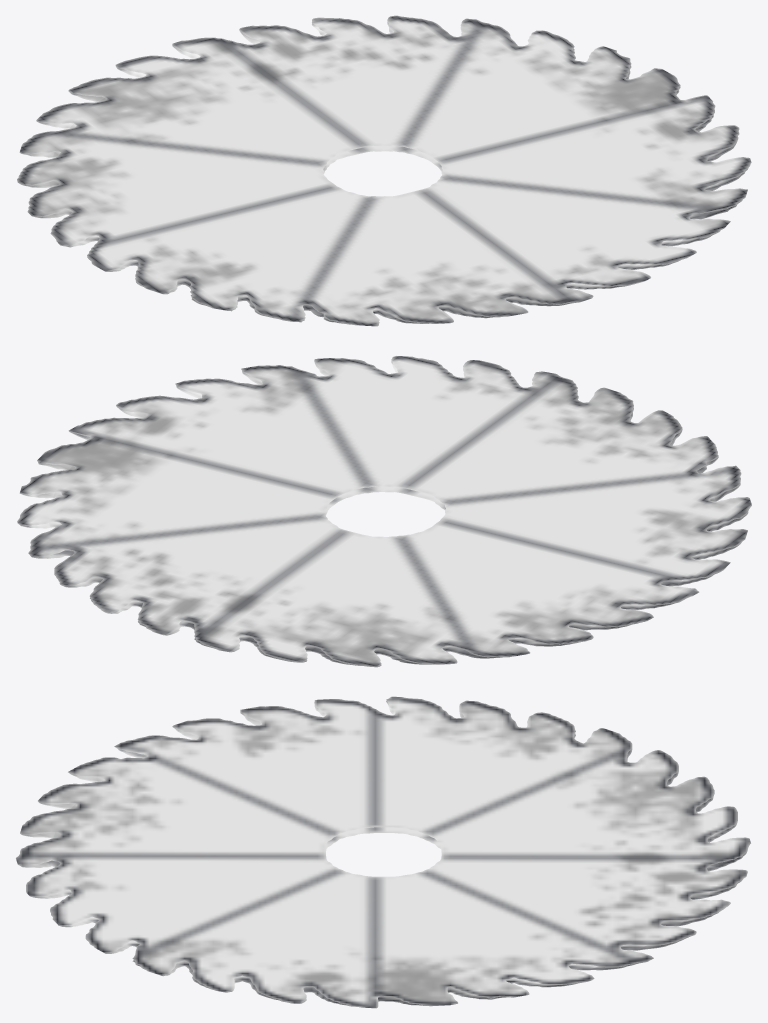
Rendered from robotsaw.FBX.
3 renders of one model, top to bottom at view 1: azimuth 30°, elevation 25°; view 2: azimuth 150°, elevation 25°; view 3: azimuth 270°, elevation 25°, orthographic.
Parts seen in each view (by area): view 1: saw; view 2: saw; view 3: saw.
Boxes of the visible parts, x1,y1,x2,y2 form: saw: (17,15,751,326); saw: (17,356,751,667); saw: (16,696,750,1008).
Size of the model in its own units: 44.29 by 0.372 by 44.29.
Materials: 1 (1 with a texture image).
